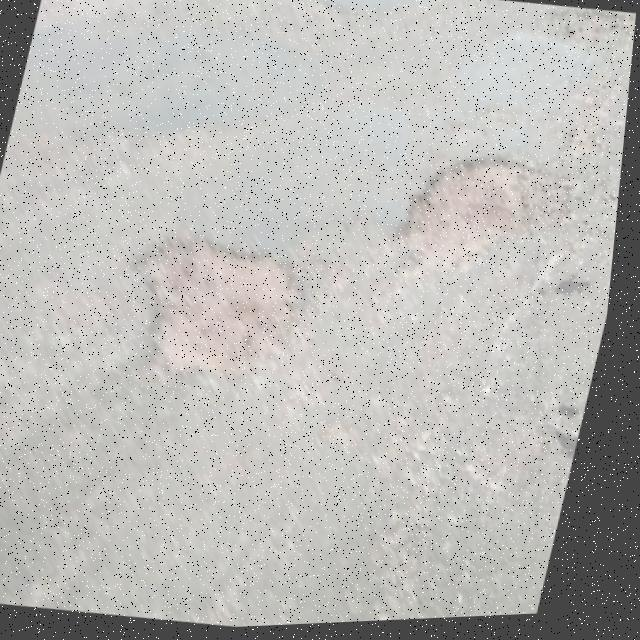pothole: (114, 221, 327, 398), (387, 142, 588, 300), (527, 6, 638, 74)
